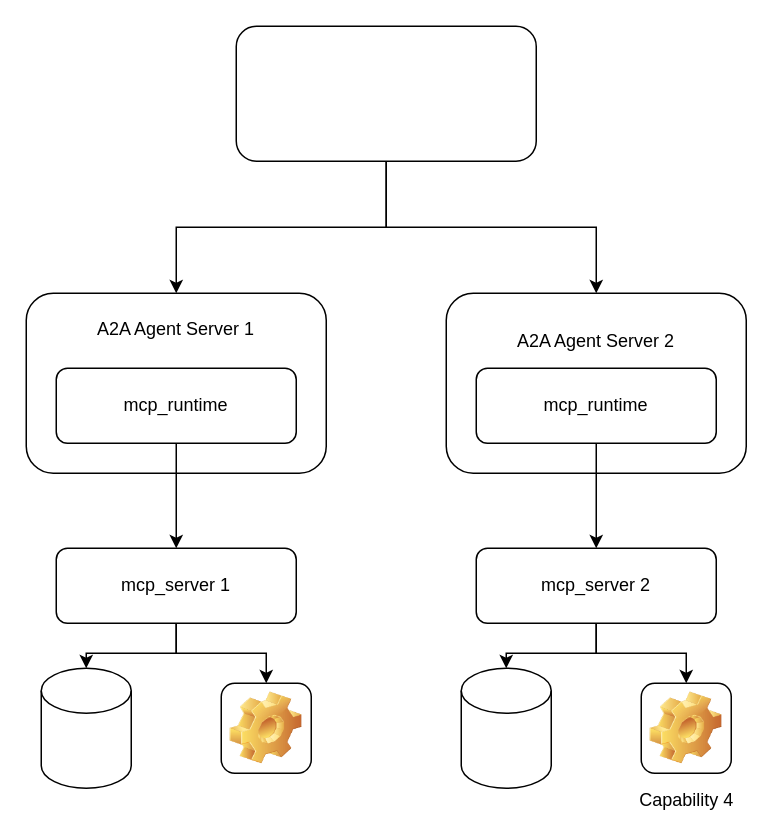
This 773x837 diagram has some shape labels left out. Each missing label, with the box of its shape:
Capability 2: (220, 682, 311, 773)
Simple Planner or A2A Planner Agent Server: (235, 25, 536, 161)
Source 1: (40, 667, 131, 788)
Source 3: (460, 667, 551, 788)
